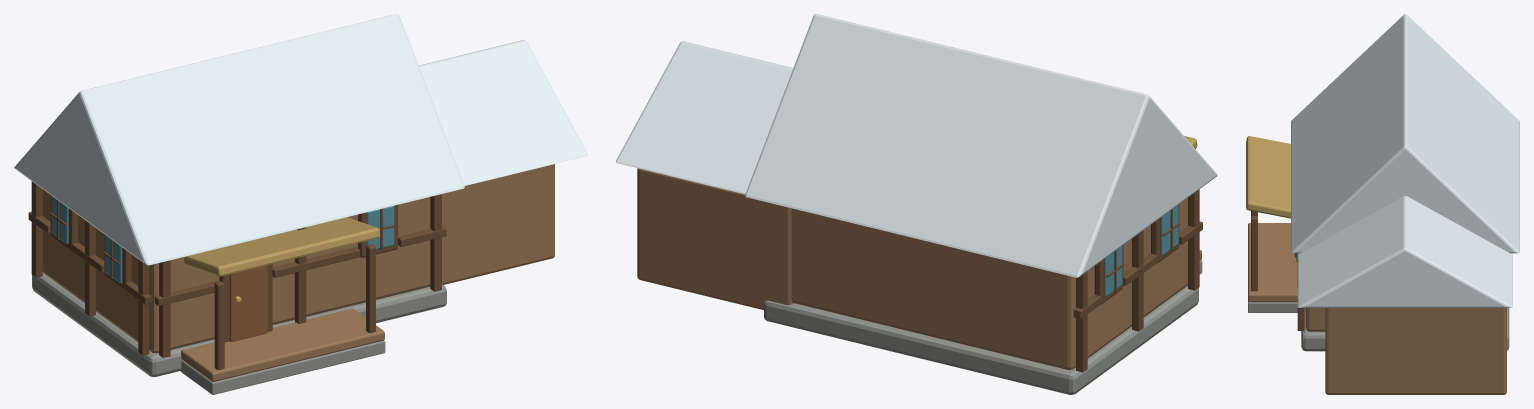
The model's file is snowy-farmstead-1.glb.
The picture shows the model from 3 angles, left to right: view 1: azimuth 30°, elevation 25°; view 2: azimuth 150°, elevation 25°; view 3: azimuth 270°, elevation 25°; orthographic projection. The views are drawn at different scales.
Parts seen in each view (by area): view 1: Snow, Aged oak, Dark beams, Foundation stone, Golden thatch, Door oak, Blue glass; view 2: Snow, Aged oak, Foundation stone, Dark beams, Blue glass; view 3: Snow, Aged oak, Golden thatch, Foundation stone, Dark beams.
Boxes of the visible parts, x1,y1,x2,y2 form: Snow: (14, 14, 587, 265); Aged oak: (42, 164, 554, 381); Dark beams: (28, 181, 446, 369); Foundation stone: (32, 273, 446, 394); Golden thatch: (184, 217, 380, 276); Door oak: (229, 265, 267, 341); Blue glass: (51, 196, 394, 283); Snow: (616, 14, 1217, 277); Aged oak: (637, 168, 1201, 369); Foundation stone: (764, 260, 1202, 394); Dark beams: (1073, 189, 1202, 372); Blue glass: (1104, 205, 1178, 296); Snow: (1291, 14, 1519, 307); Aged oak: (1248, 223, 1506, 394); Golden thatch: (1246, 136, 1290, 218); Foundation stone: (1248, 301, 1509, 351); Dark beams: (1251, 211, 1304, 330).
Bounding box in the file's own units: 6.21 × 3.27 × 3.85.
